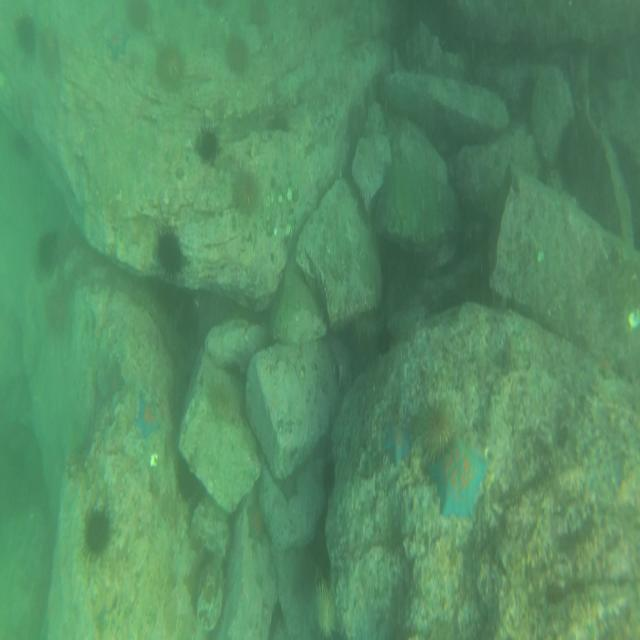echinus: (232, 162, 260, 223), (153, 228, 184, 282), (419, 401, 451, 453), (80, 502, 106, 562), (210, 377, 238, 426), (310, 582, 334, 639), (30, 234, 59, 273), (45, 292, 70, 336), (156, 48, 183, 88), (123, 4, 153, 32), (196, 124, 218, 162), (12, 13, 34, 50), (227, 33, 247, 71)
starfish: (428, 436, 490, 520), (383, 422, 410, 468), (134, 392, 160, 438), (247, 502, 267, 546)
